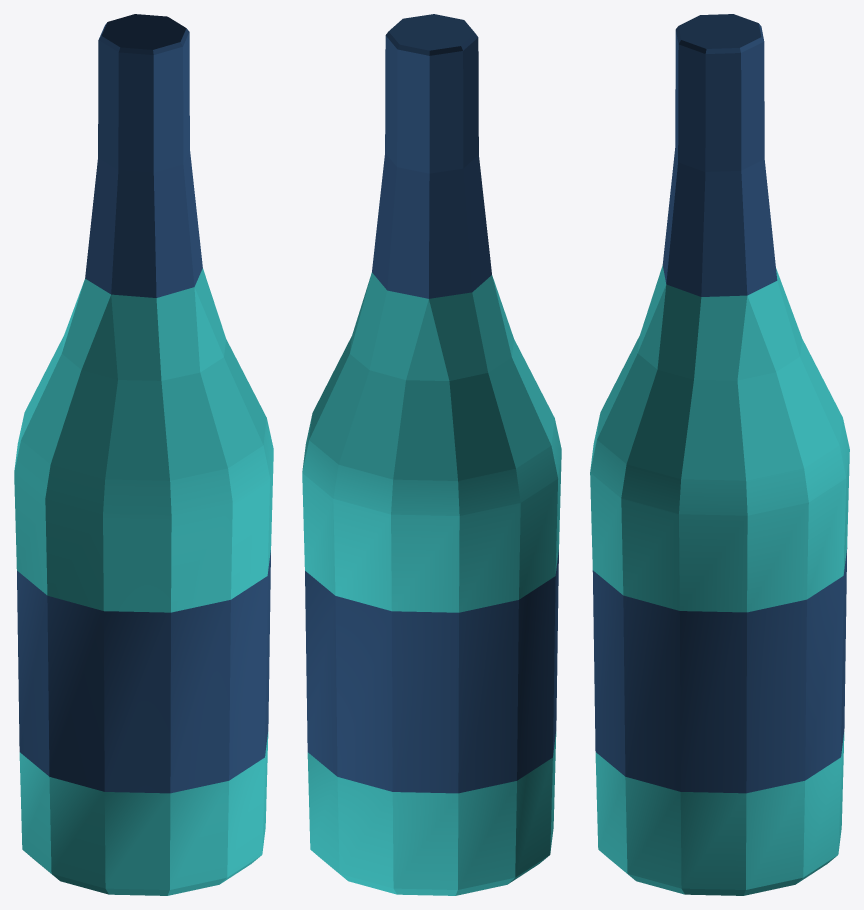
File: Wine 27.fbx
3 views of the same model, side by side, from view 1: azimuth 30°, elevation 25°; view 2: azimuth 150°, elevation 25°; view 3: azimuth 270°, elevation 25° (orthographic).
Visible parts, largest first — view 1: Node 0; view 2: Node 0; view 3: Node 0.
Part boxes in pixels (left/top/right/bottom): Node 0: left=14, top=14, right=273, bottom=895; Node 0: left=302, top=14, right=561, bottom=895; Node 0: left=590, top=14, right=849, bottom=895.
Size of the model in its own units: 0.0779 by 0.2707 by 0.0779.
